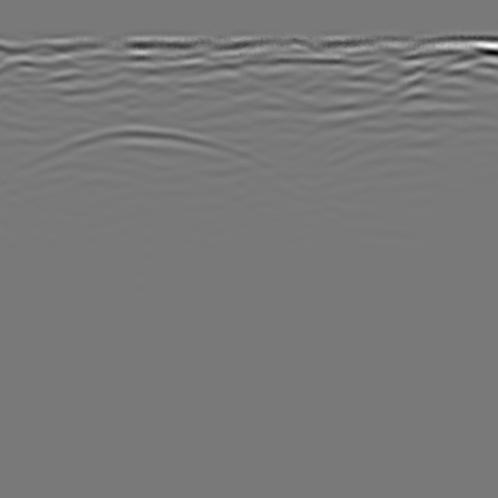hyperbola: (17, 109, 265, 209)
